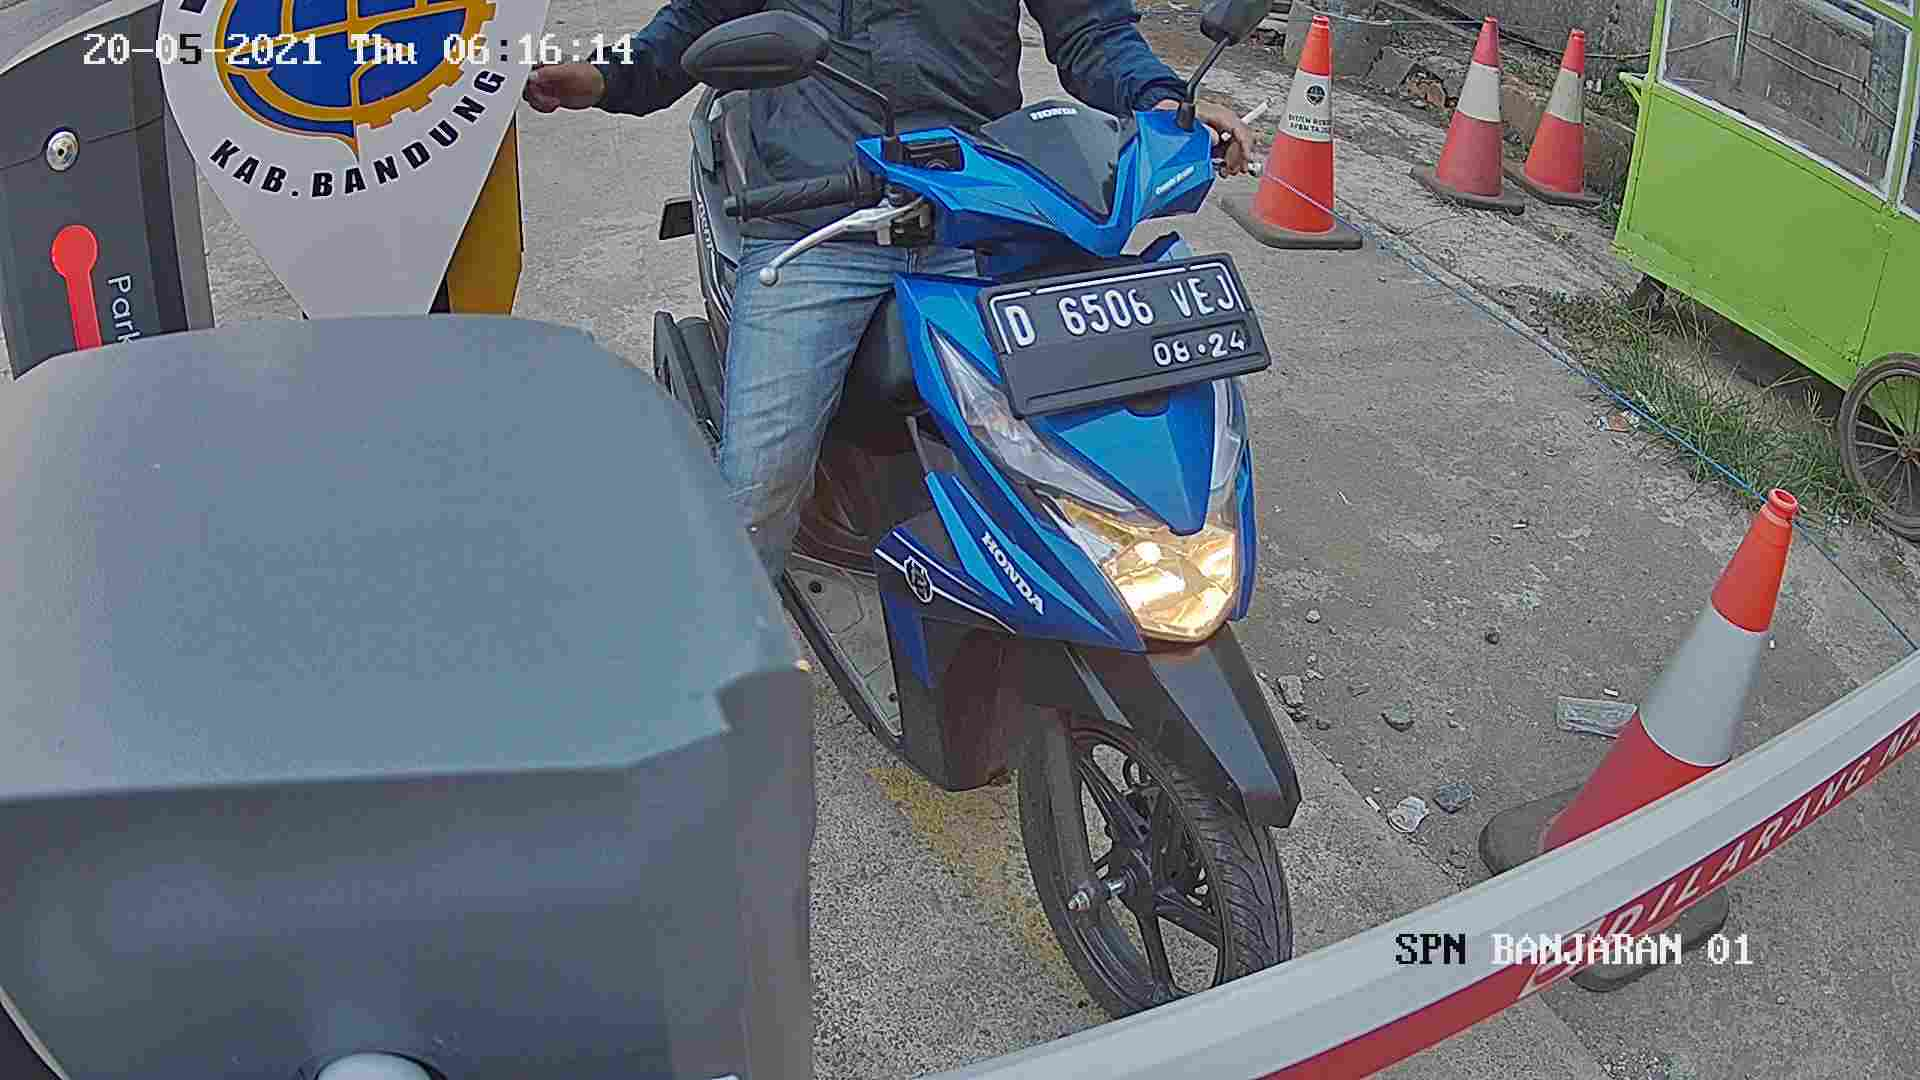motor: (640, 98, 1344, 992)
